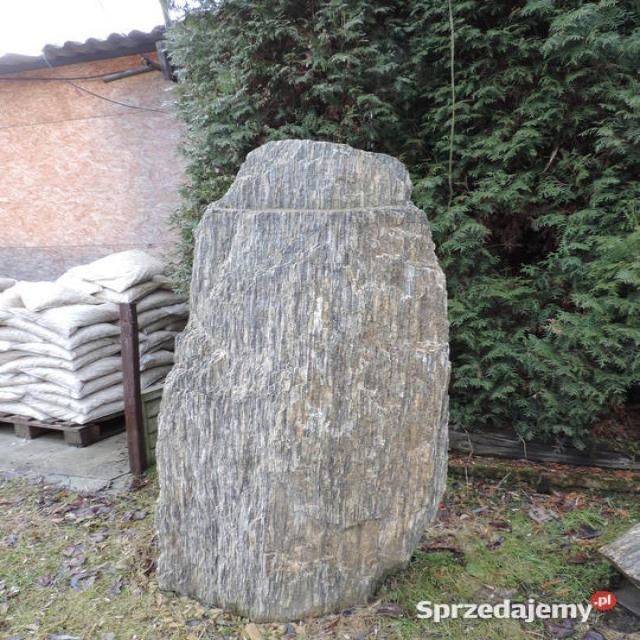grass: (380, 477, 639, 615), (390, 609, 561, 639)
stone: (156, 140, 449, 621)
